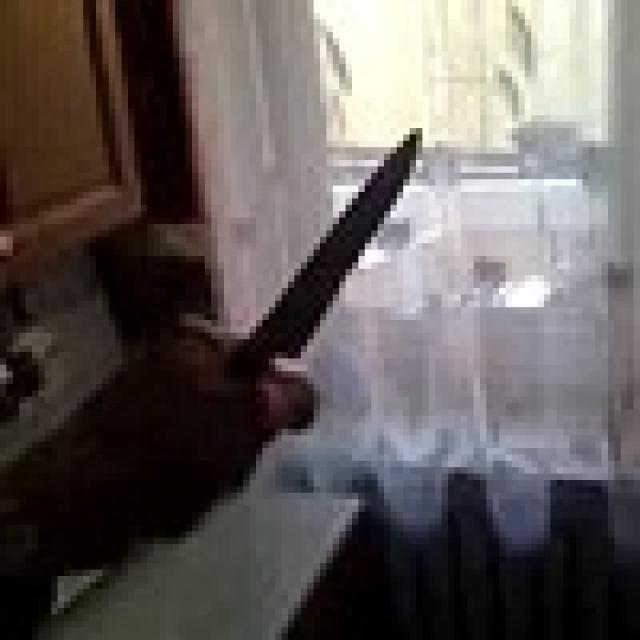knife: (231, 115, 436, 429)
